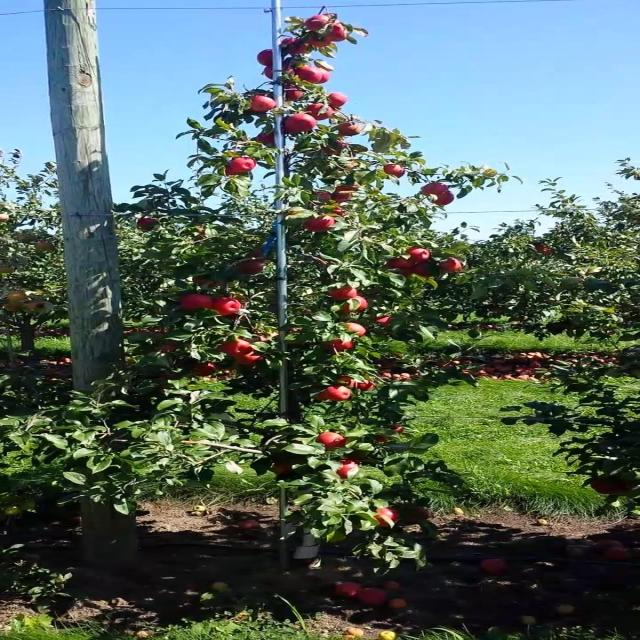apple: (282, 112, 318, 134), (398, 504, 431, 525), (591, 478, 633, 494), (224, 156, 258, 175), (211, 296, 242, 316), (180, 294, 213, 311), (220, 339, 253, 356), (318, 385, 353, 401), (316, 431, 347, 449), (293, 65, 322, 84), (304, 215, 336, 232), (307, 102, 336, 120), (324, 22, 349, 42), (249, 95, 278, 112), (387, 258, 416, 275), (280, 38, 309, 55), (376, 508, 400, 528), (336, 459, 360, 479), (236, 259, 267, 274), (340, 296, 369, 312), (313, 60, 333, 83), (304, 14, 331, 31), (322, 138, 349, 155), (238, 259, 267, 274), (191, 275, 224, 288), (420, 181, 449, 195), (329, 286, 358, 300), (411, 261, 436, 277), (338, 121, 364, 136), (236, 352, 262, 367), (191, 362, 218, 376), (433, 190, 456, 206), (136, 216, 160, 231), (327, 92, 349, 108), (438, 258, 462, 272), (407, 248, 431, 262), (307, 34, 331, 48), (271, 461, 293, 476), (382, 164, 407, 177), (284, 86, 304, 101), (256, 49, 273, 66), (329, 339, 353, 351), (331, 189, 353, 202), (256, 132, 276, 146), (158, 341, 180, 353), (346, 322, 364, 336), (533, 241, 551, 255), (7, 290, 27, 302), (313, 388, 331, 401), (224, 162, 242, 175), (337, 182, 360, 192), (356, 380, 376, 391), (373, 315, 391, 327), (336, 375, 353, 387), (247, 246, 264, 258), (160, 370, 178, 379), (316, 190, 331, 200), (262, 66, 273, 79), (376, 435, 391, 444), (331, 206, 344, 216), (282, 59, 291, 72), (391, 425, 404, 434), (253, 336, 271, 342)
